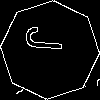J: (25, 25, 73, 54)
